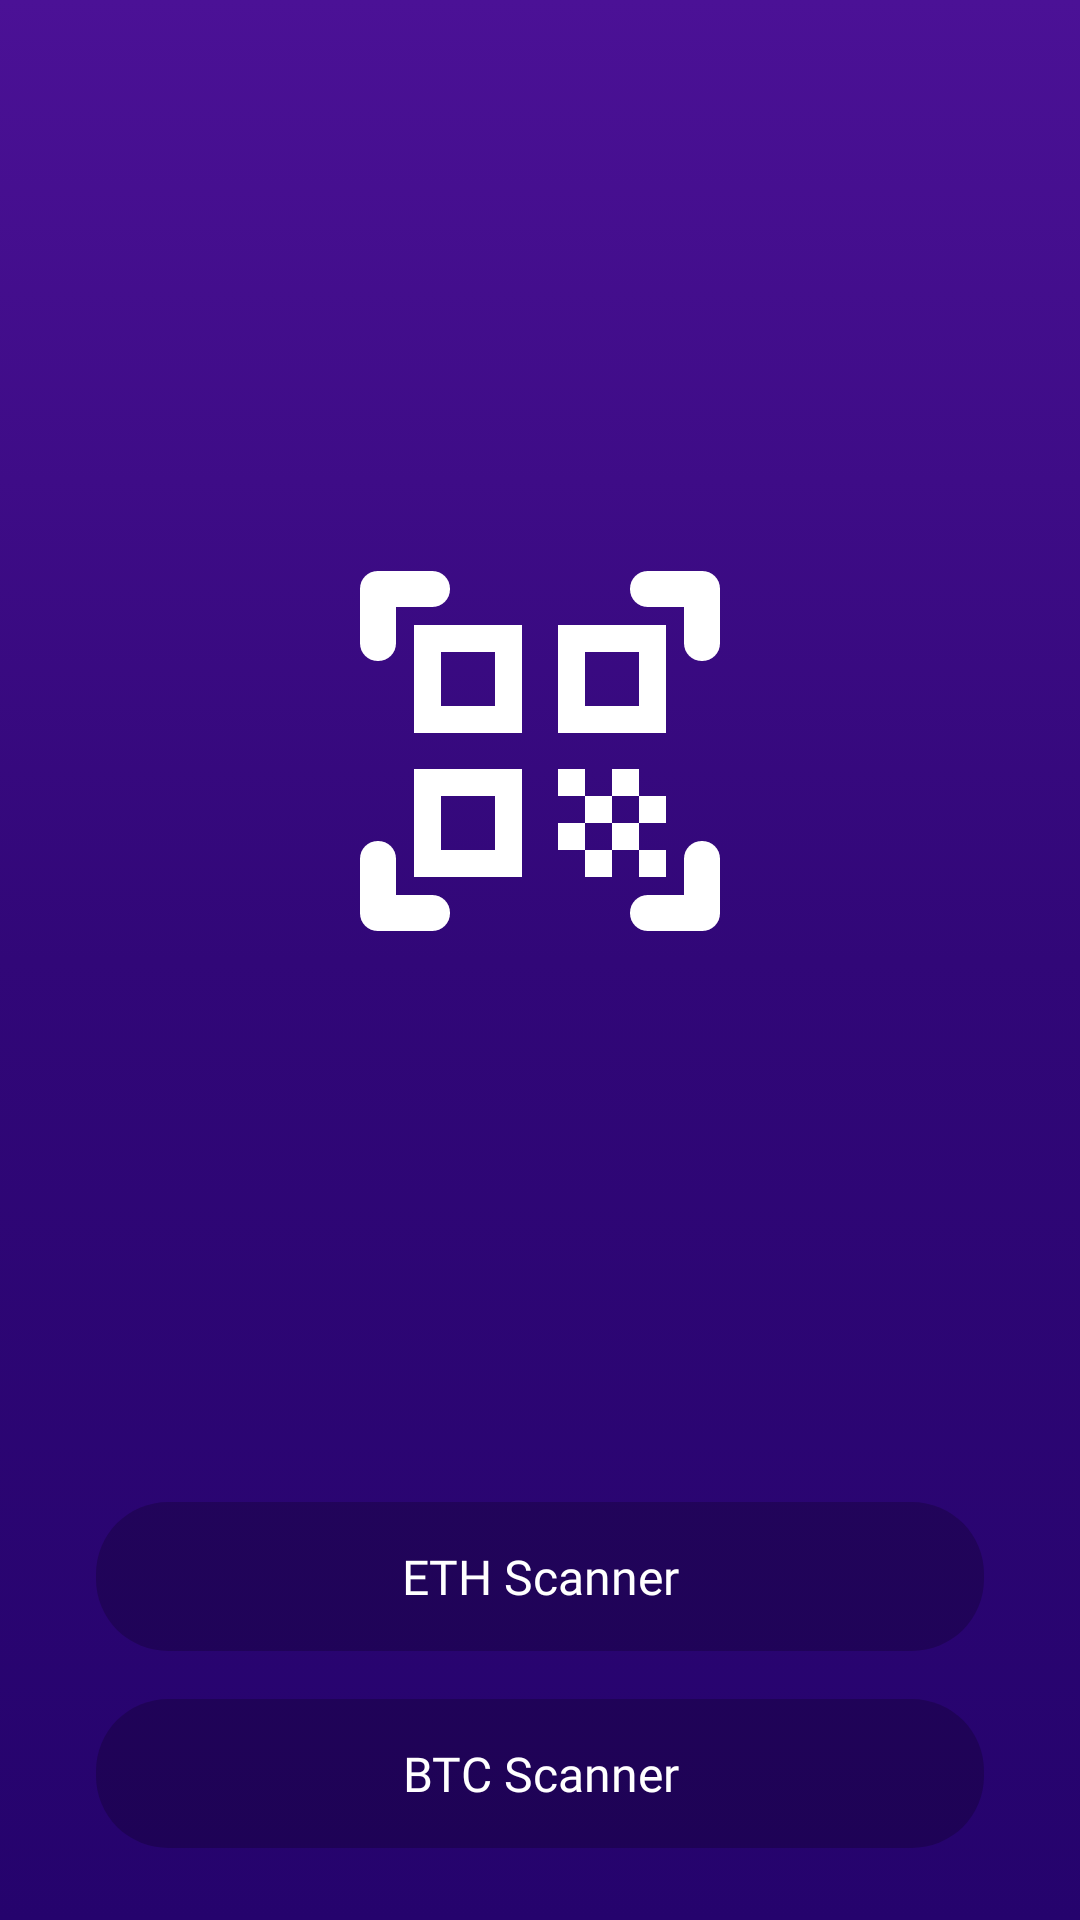

Icon bounding boxes for this 1080*1920 phone screenshot, format (x1, y1, x2, y2):
scanner: (360, 571, 720, 931)
